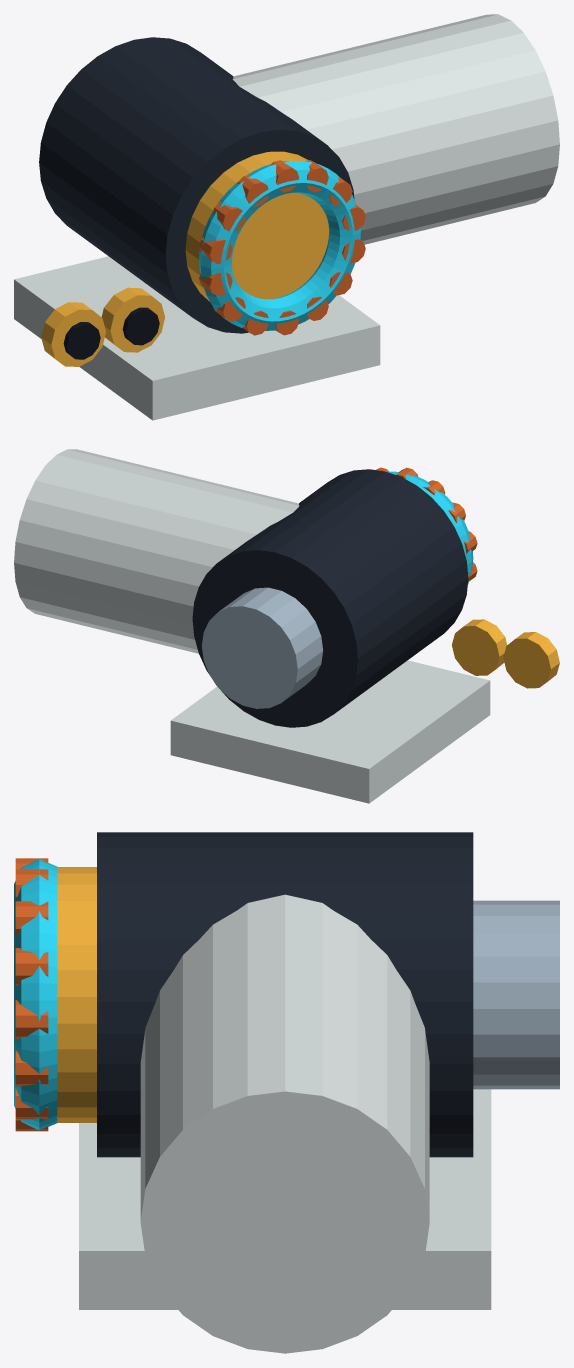
Rendered from 14_L86_RobotJoint7WristRoll.fbx.
The picture shows the model from 3 angles, top to bottom: view 1: azimuth 30°, elevation 25°; view 2: azimuth 150°, elevation 25°; view 3: azimuth 270°, elevation 25°; orthographic projection. The views are drawn at different scales.
Parts seen in each view (by area): view 1: L86_RobotJoint7WristRoll_Part_0005, L86_RobotJoint7WristRoll_Part_0000, L86_RobotJoint7WristRoll_Part_0001, L86_RobotJoint7WristRoll_Part_0002, L86_RobotJoint7WristRoll_Part_0004, L86_RobotJoint7WristRoll_Part_0006, L86_RobotJoint7WristRoll_Part_0008, L86_RobotJoint7WristRoll_Part_0009, L86_RobotJoint7WristRoll_Part_0007; view 2: L86_RobotJoint7WristRoll_Part_0005, L86_RobotJoint7WristRoll_Part_0000, L86_RobotJoint7WristRoll_Part_0003, L86_RobotJoint7WristRoll_Part_0006, L86_RobotJoint7WristRoll_Part_0008, L86_RobotJoint7WristRoll_Part_0002, L86_RobotJoint7WristRoll_Part_0004; view 3: L86_RobotJoint7WristRoll_Part_0005, L86_RobotJoint7WristRoll_Part_0000, L86_RobotJoint7WristRoll_Part_0003, L86_RobotJoint7WristRoll_Part_0001, L86_RobotJoint7WristRoll_Part_0002, L86_RobotJoint7WristRoll_Part_0004.
Part boxes in pixels (<box>): L86_RobotJoint7WristRoll_Part_0005: <box>14,14,559,420</box>; L86_RobotJoint7WristRoll_Part_0000: <box>39,37,354,333</box>; L86_RobotJoint7WristRoll_Part_0001: <box>185,151,328,301</box>; L86_RobotJoint7WristRoll_Part_0002: <box>199,161,360,330</box>; L86_RobotJoint7WristRoll_Part_0004: <box>199,160,365,335</box>; L86_RobotJoint7WristRoll_Part_0006: <box>41,302,105,366</box>; L86_RobotJoint7WristRoll_Part_0008: <box>101,287,164,352</box>; L86_RobotJoint7WristRoll_Part_0009: <box>122,307,159,345</box>; L86_RobotJoint7WristRoll_Part_0007: <box>63,322,100,359</box>; L86_RobotJoint7WristRoll_Part_0005: <box>14,449,490,803</box>; L86_RobotJoint7WristRoll_Part_0000: <box>192,469,468,727</box>; L86_RobotJoint7WristRoll_Part_0003: <box>201,587,323,708</box>; L86_RobotJoint7WristRoll_Part_0006: <box>503,632,559,688</box>; L86_RobotJoint7WristRoll_Part_0008: <box>452,619,506,675</box>; L86_RobotJoint7WristRoll_Part_0002: <box>385,471,473,584</box>; L86_RobotJoint7WristRoll_Part_0004: <box>376,467,477,581</box>; L86_RobotJoint7WristRoll_Part_0005: <box>79,894,491,1353</box>; L86_RobotJoint7WristRoll_Part_0000: <box>97,832,473,1157</box>; L86_RobotJoint7WristRoll_Part_0003: <box>473,900,559,1089</box>; L86_RobotJoint7WristRoll_Part_0001: <box>56,867,96,1122</box>; L86_RobotJoint7WristRoll_Part_0002: <box>14,859,57,1130</box>; L86_RobotJoint7WristRoll_Part_0004: <box>15,858,48,1131</box>.
Bounding box in the file's own units: 123 × 58 × 75.5.
